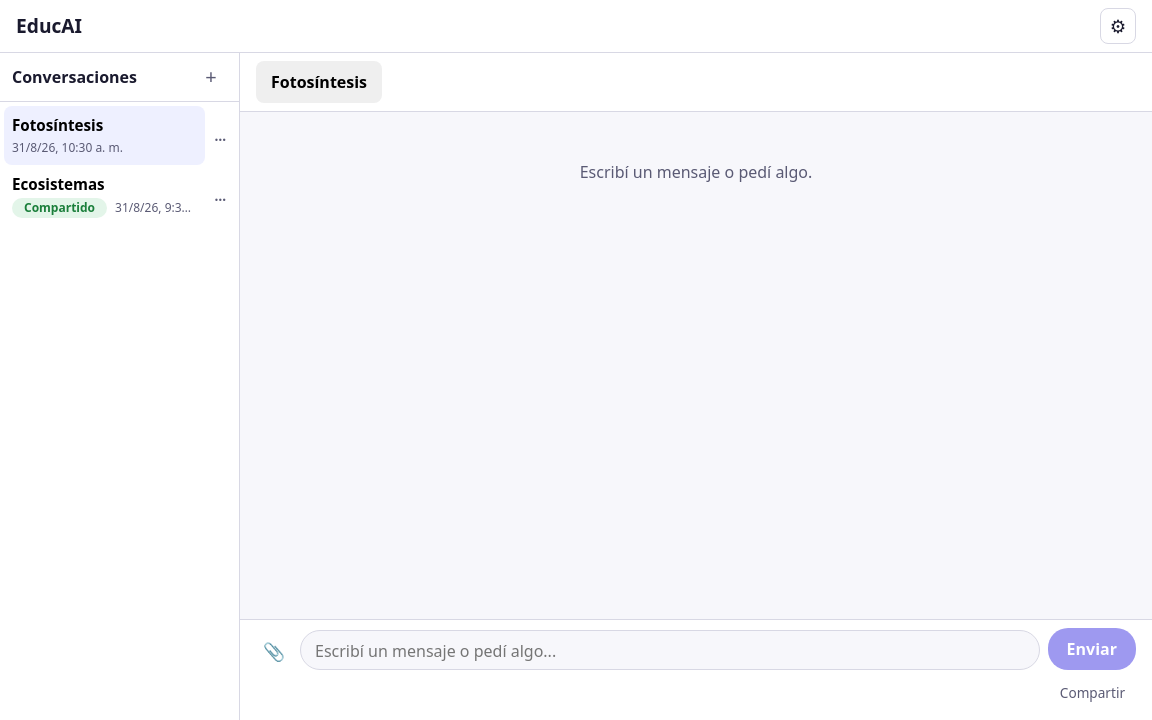
Test case: App › deletes the active conversation and selects another one
The image size is (1152, 720).
Expected: the heading "Fotosíntesis" is shown, [256, 61, 382, 103]
Click the button named "Opciones de conversación": click(220, 135) [205, 121, 235, 149]
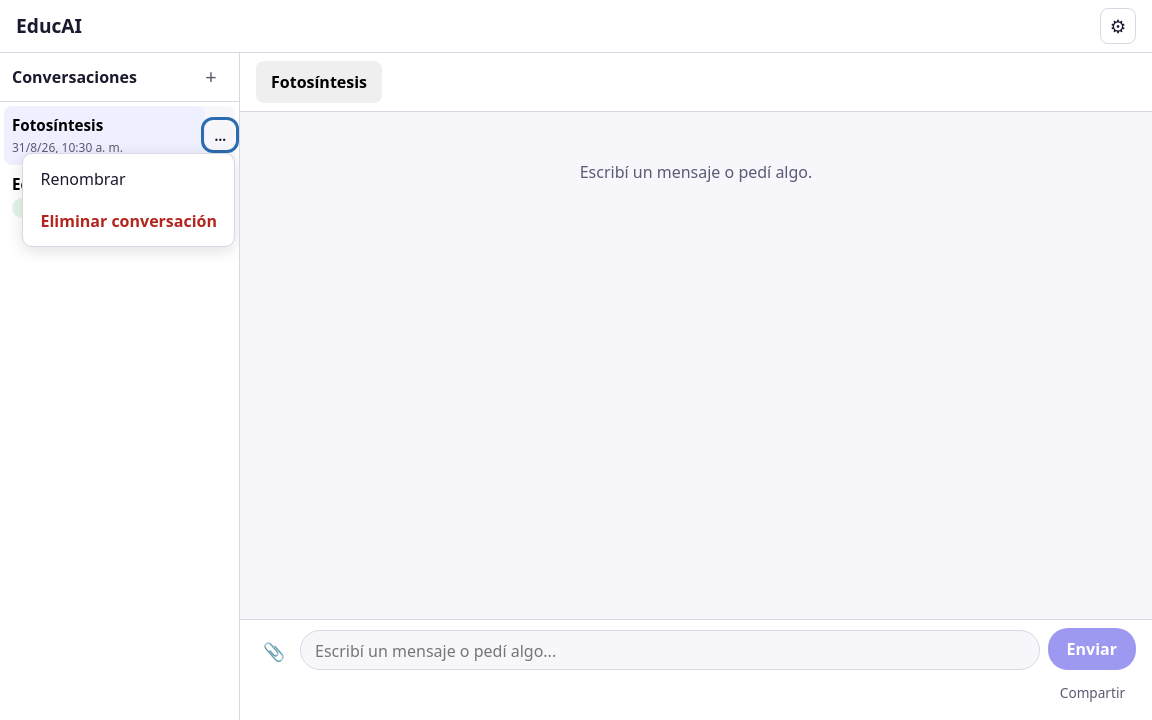
Click the menu item "Eliminar conversación": click(129, 221) [28, 200, 230, 242]
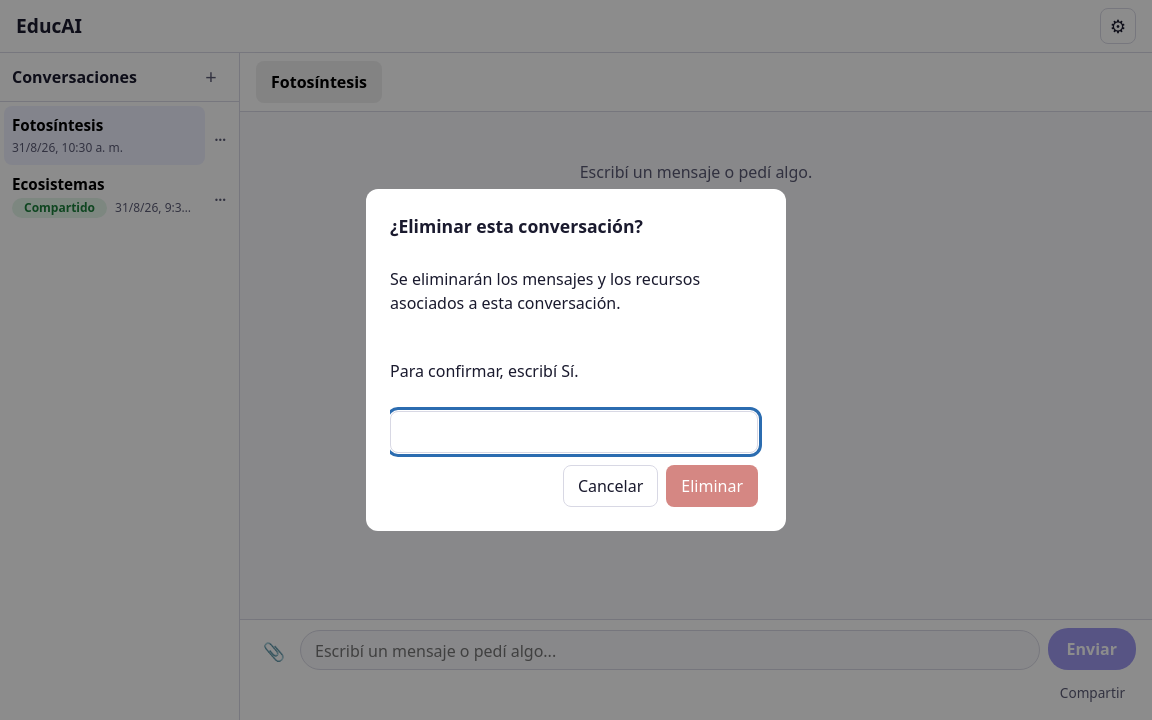
In the field named "Confirmación": (574, 432) [390, 411, 758, 453], type "Sí"
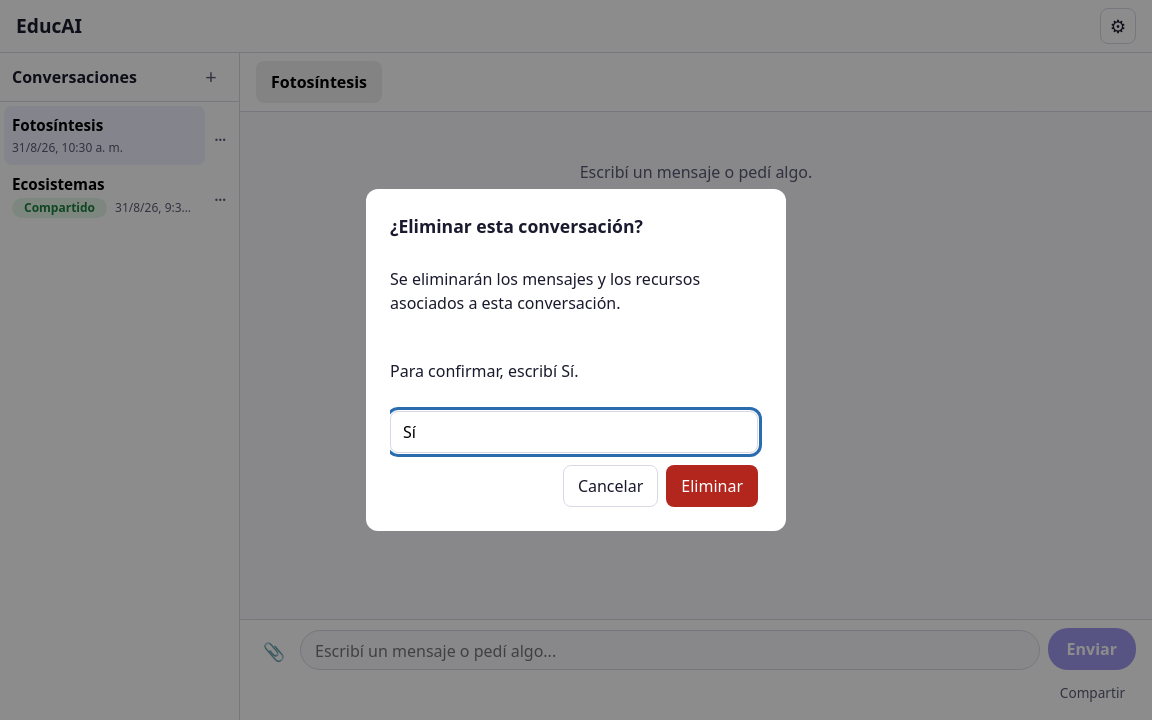
Click the button "Eliminar": click(712, 486) [666, 465, 758, 507]
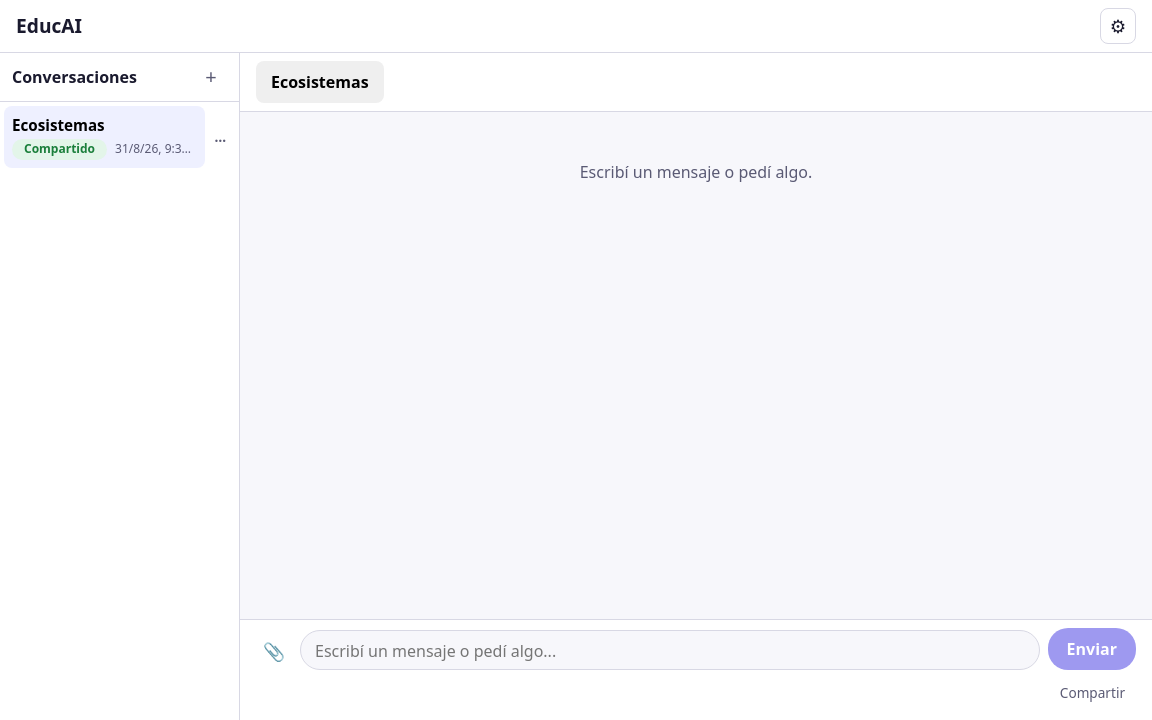
Result: the heading "Ecosistemas" is shown at [256, 61, 384, 103]
